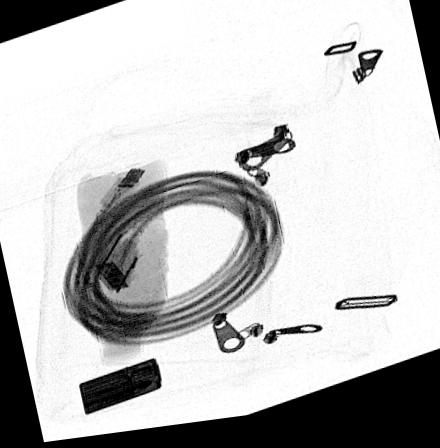Lighter: (78, 360, 161, 417)
